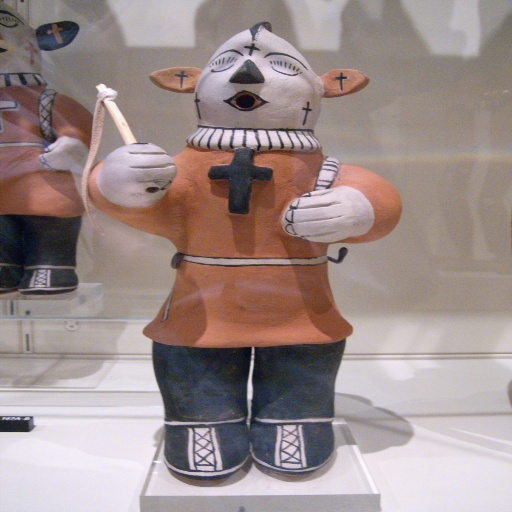hand: (281, 185, 376, 242), (96, 143, 176, 208), (32, 135, 92, 172)
